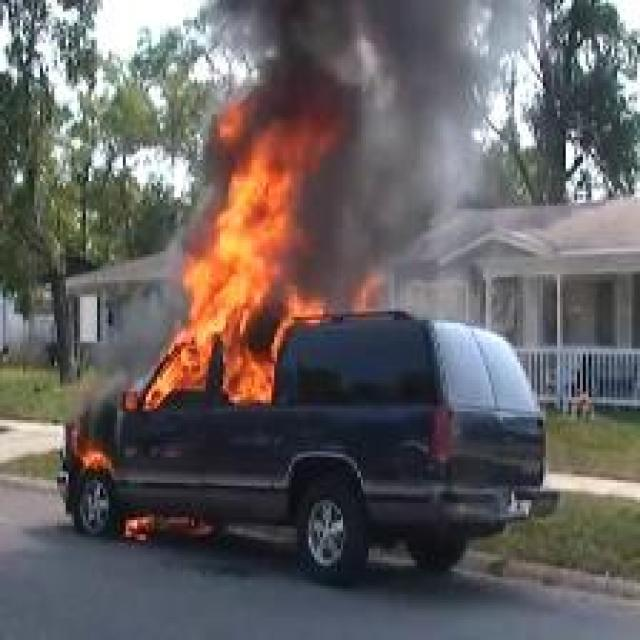Fire: (144, 103, 327, 411), (356, 272, 384, 308), (77, 447, 111, 470)
